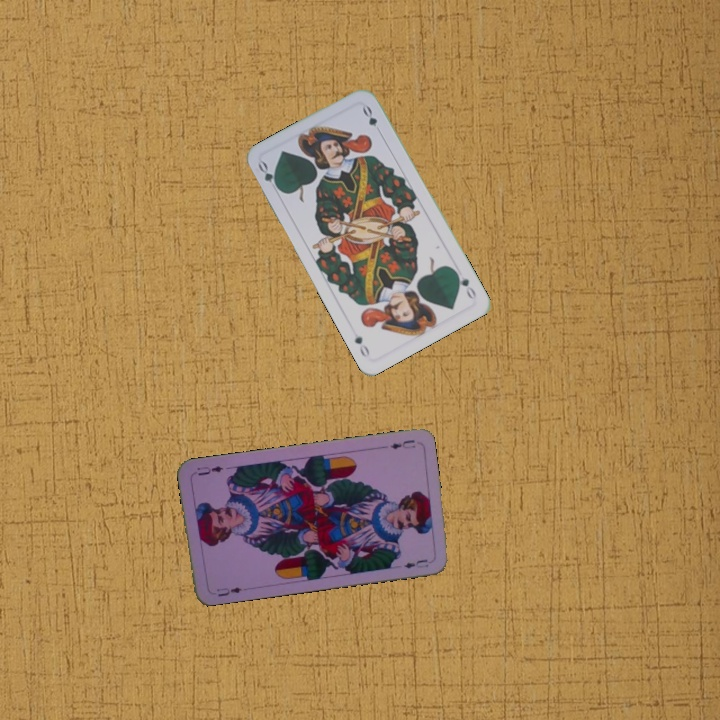EU: (386, 435, 418, 451), (213, 583, 244, 599)
GO: (254, 157, 284, 196), (450, 267, 479, 302)
